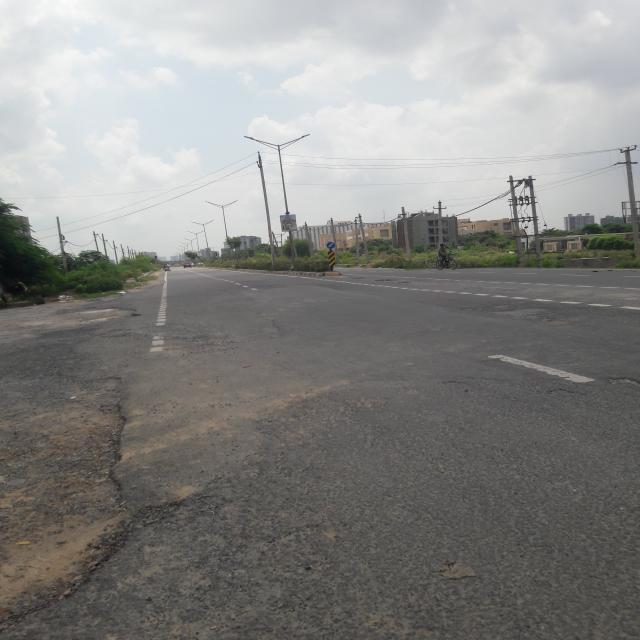KEEP_LEFT: (326, 242, 335, 249)
